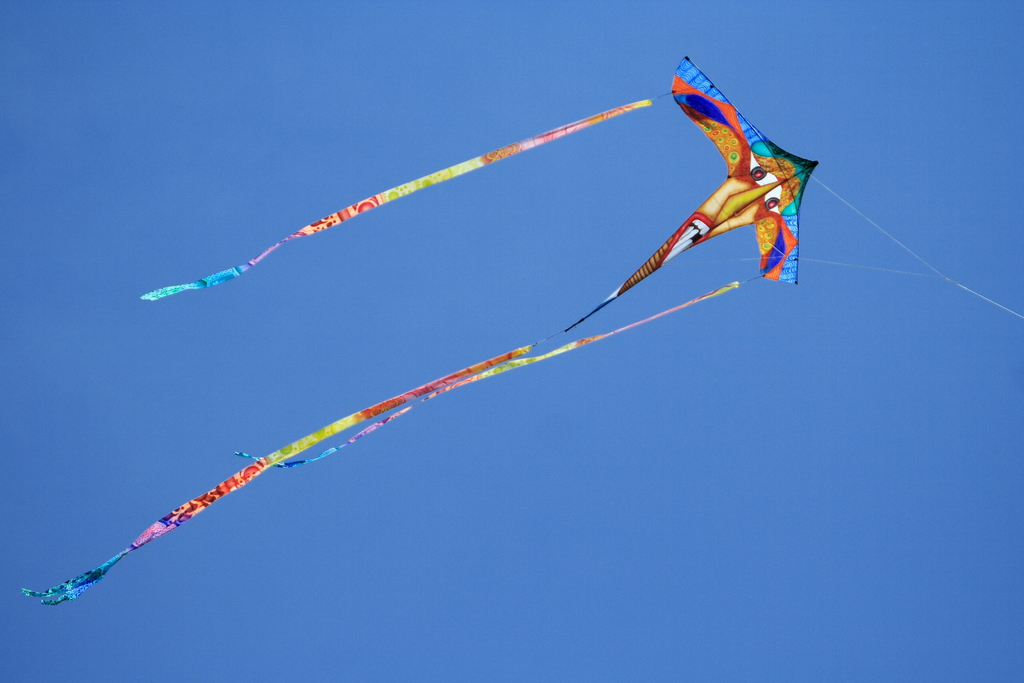kite: (25, 45, 833, 619)
